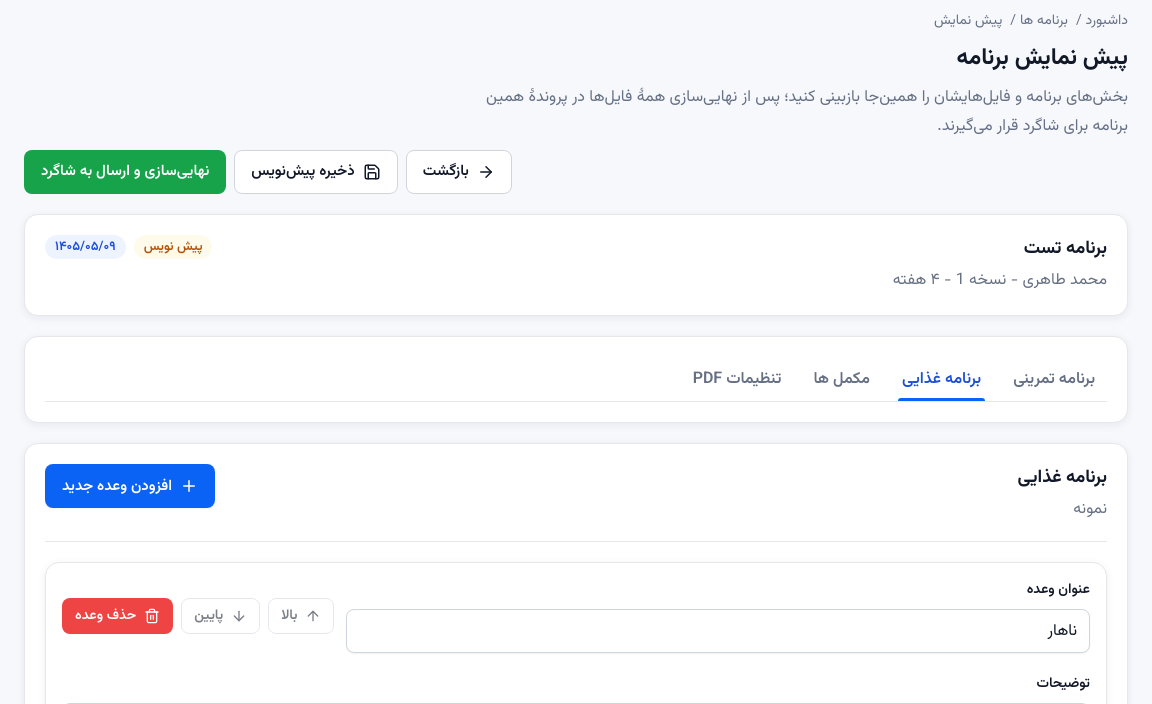
Scenario: ProgramPreviewPage › edits nutrition and supplements tabs
The image size is (1152, 704).
Expected: the field showing "ناهار" is shown, [346, 609, 1090, 653]
Click the tab "مکمل ها".
click(842, 379)  # box [801, 357, 882, 401]
(page scrolled)
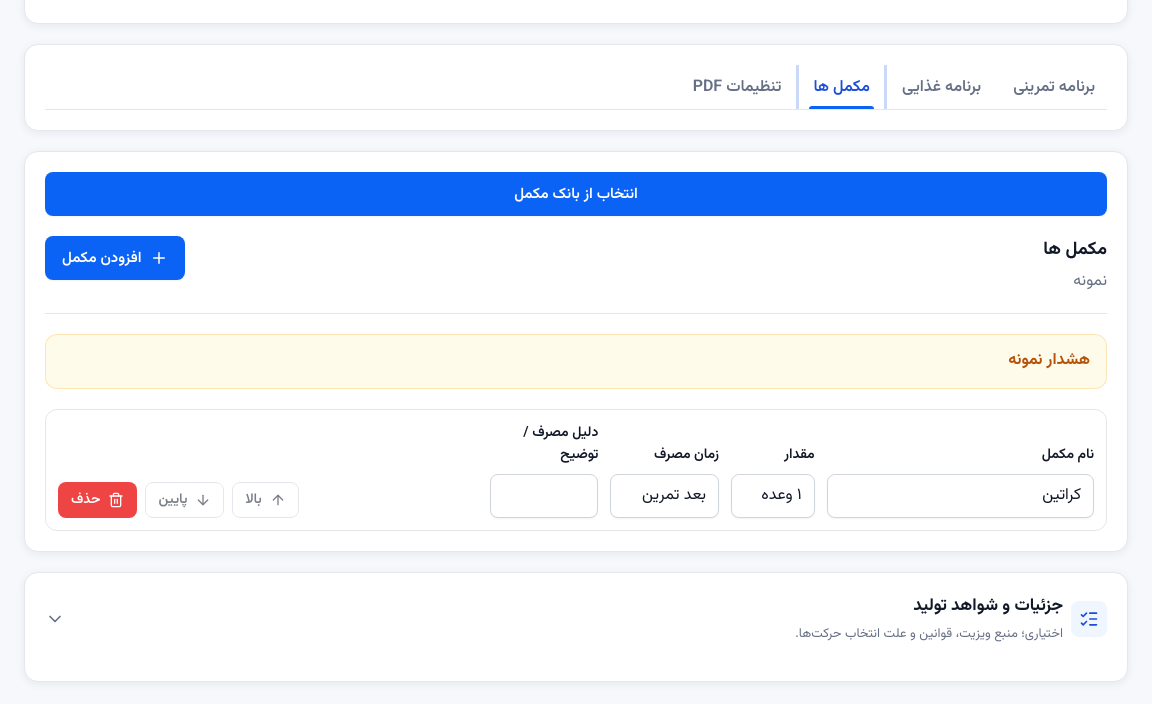
Now the field showing "کراتین" below "نام مکمل" is shown, box [827, 474, 1094, 518]
